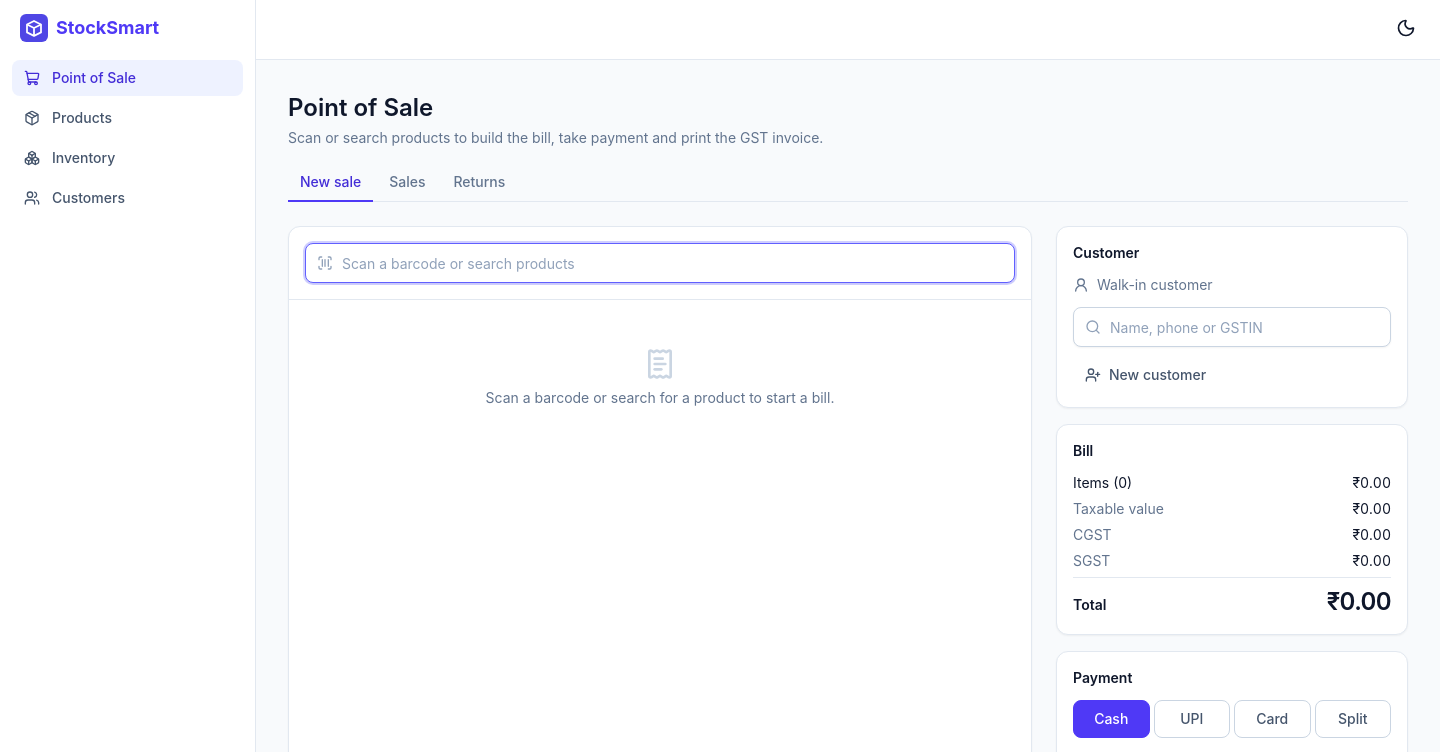
Test: Point of sale › shows a stock error from the server on its line and refreshes that stock
The width and height of the screenshot is (1440, 752).
Type "8901234567890" into the dropdown named "Add product" at point(660, 263), box [305,243,1015,283]
Then press Enter
(page scrolled)
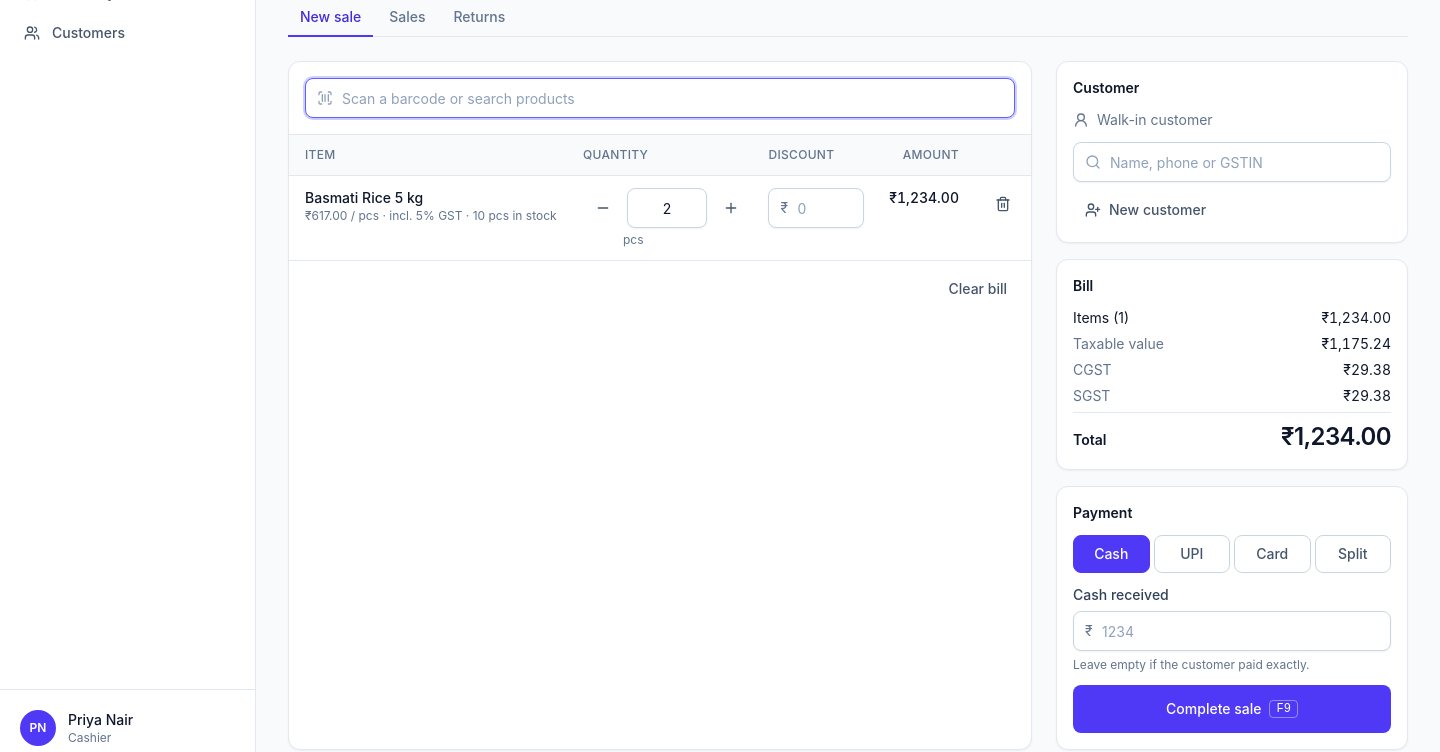
Click the button "Complete sale F9" at point(1232, 709), box [1073,685,1391,733]
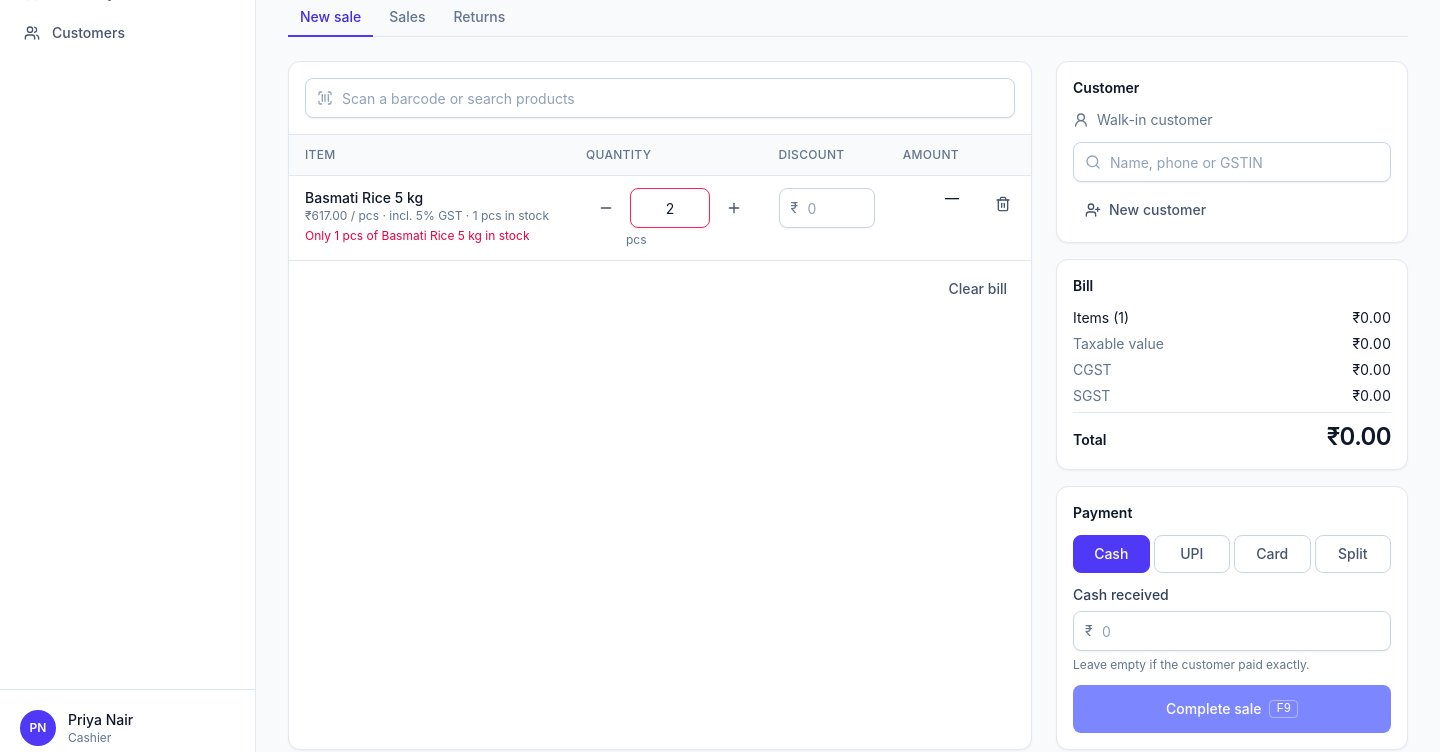
Expected: the message reads "Only 1 pcs of Basmati Rice 5 kg in stock", [305,228,530,243]
Expected: the text "₹617.00 / pcs · incl. 5% GST · 1 pcs in stock" is shown, [305,208,562,224]
Expected: the button "Complete sale F9" is disabled, [1073,685,1391,733]
